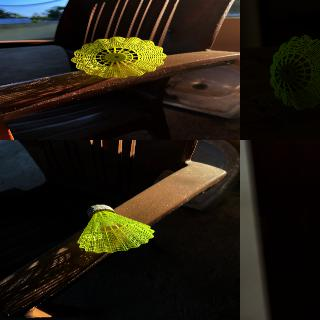shuttlecock: (70, 37, 166, 78), (76, 204, 154, 253), (270, 35, 319, 110)
